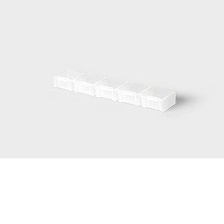plastic_box: (47, 63, 185, 116)
